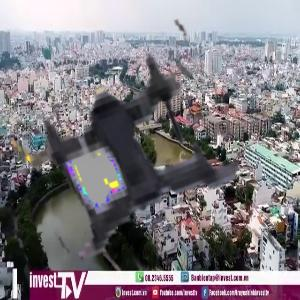drone: (4, 26, 257, 279)
